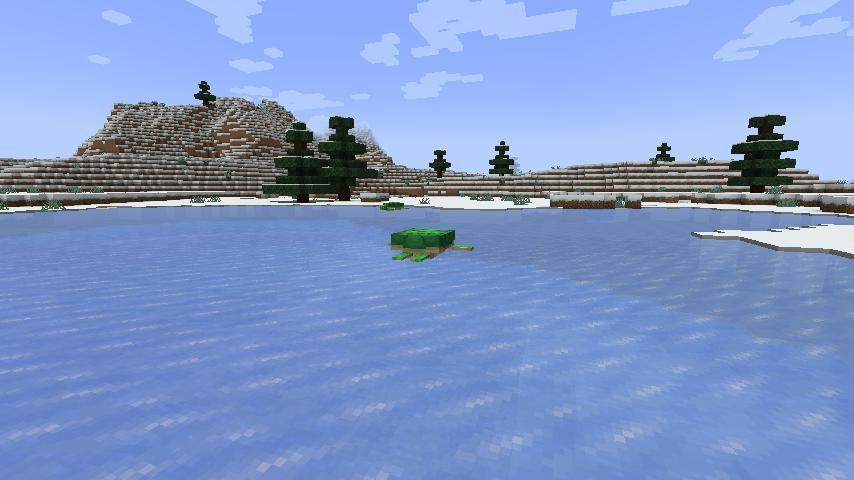turtle: (389, 226, 477, 264), (377, 199, 409, 213)
